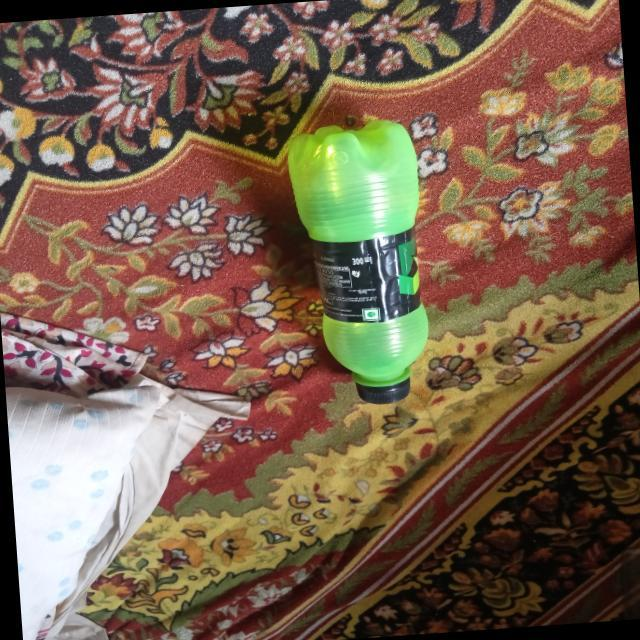good: (280, 110, 443, 412)
